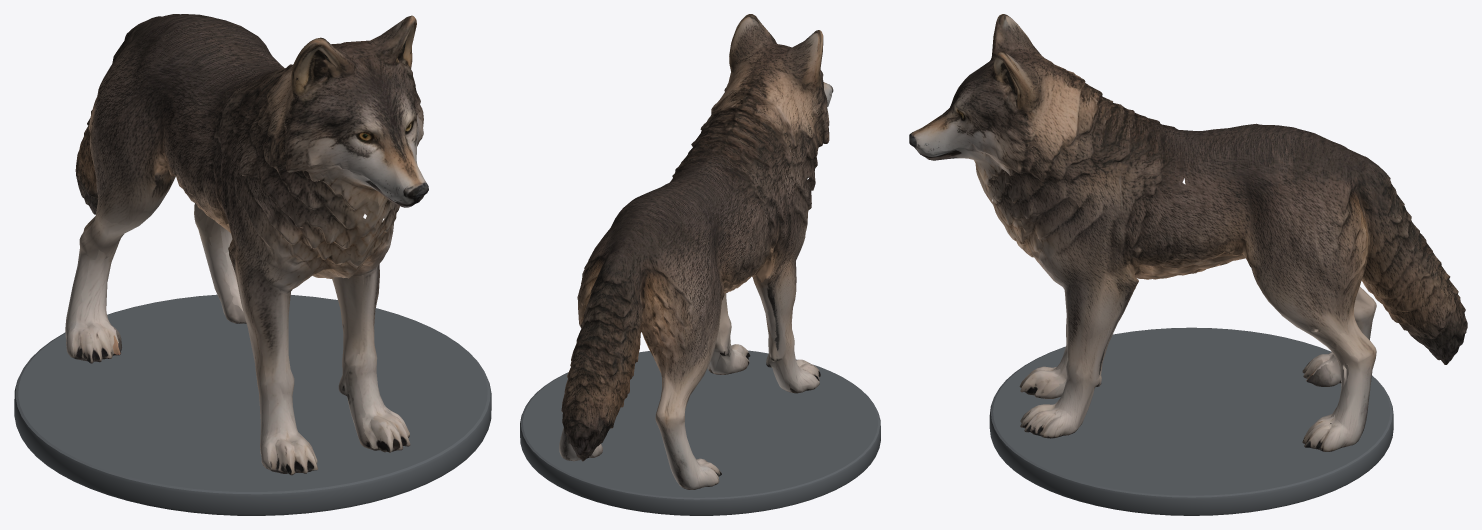
Rendered from wolf-hybrid-2e6887e31231.glb.
3 views of the same model, side by side, from view 1: azimuth 30°, elevation 25°; view 2: azimuth 150°, elevation 25°; view 3: azimuth 270°, elevation 25° (orthographic). The views are drawn at different scales.
Parts seen in each view (by area): view 1: comparison-wolf-hybrid_body, comparison-wolf-hybrid_round_base; view 2: comparison-wolf-hybrid_body, comparison-wolf-hybrid_round_base; view 3: comparison-wolf-hybrid_body, comparison-wolf-hybrid_round_base.
Part boxes in pixels (box(x1,y1,x2,y2)): comparison-wolf-hybrid_body: box(65, 14, 428, 475); comparison-wolf-hybrid_round_base: box(14, 294, 491, 515); comparison-wolf-hybrid_body: box(559, 14, 833, 489); comparison-wolf-hybrid_round_base: box(520, 350, 880, 515); comparison-wolf-hybrid_body: box(909, 14, 1467, 451); comparison-wolf-hybrid_round_base: box(989, 327, 1393, 515).
Bounding box in the file's own units: 1 × 1.09 × 1.38.
2 materials, 1 textured.
